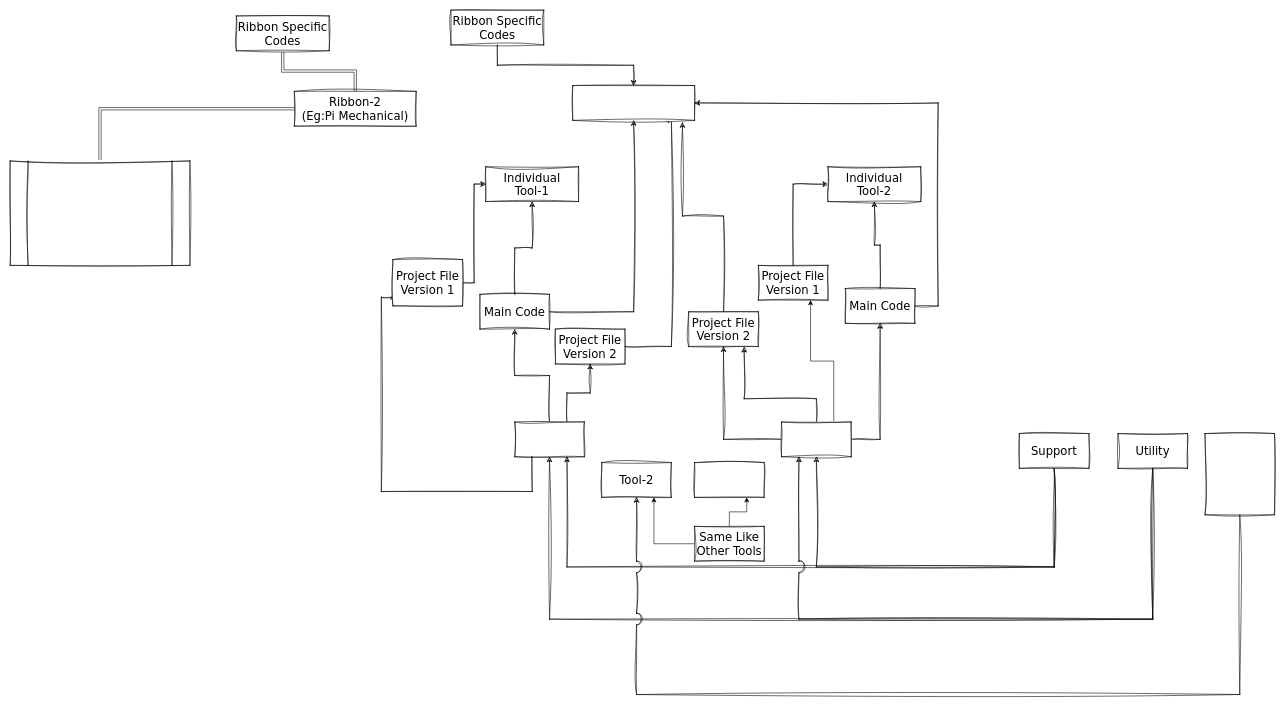
This 1285x709 diagram has some shape labels left out. Each missing label, with the box of its shape:
Ribbon-1 (Eg:Pi Electrical): (572, 85, 695, 120)
Same Like Ribbon-1 But From Selected Tools which will be customizable: (10, 160, 190, 265)
Tool-1: (514, 421, 584, 457)
Tool-4: (781, 421, 851, 457)
Tool-x...: (694, 462, 764, 497)
Utility More Specific: (1204, 433, 1275, 515)
